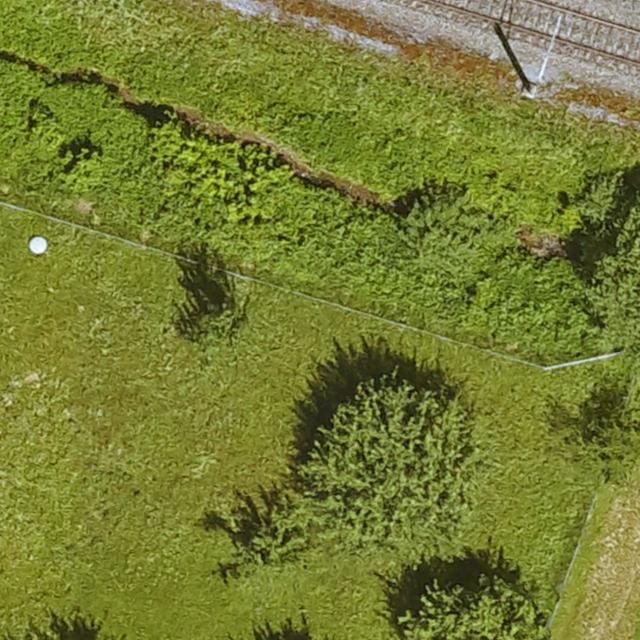tree: (307, 376, 477, 548), (399, 580, 545, 640), (590, 211, 640, 345), (237, 505, 307, 568), (587, 414, 640, 482), (188, 302, 250, 354)
